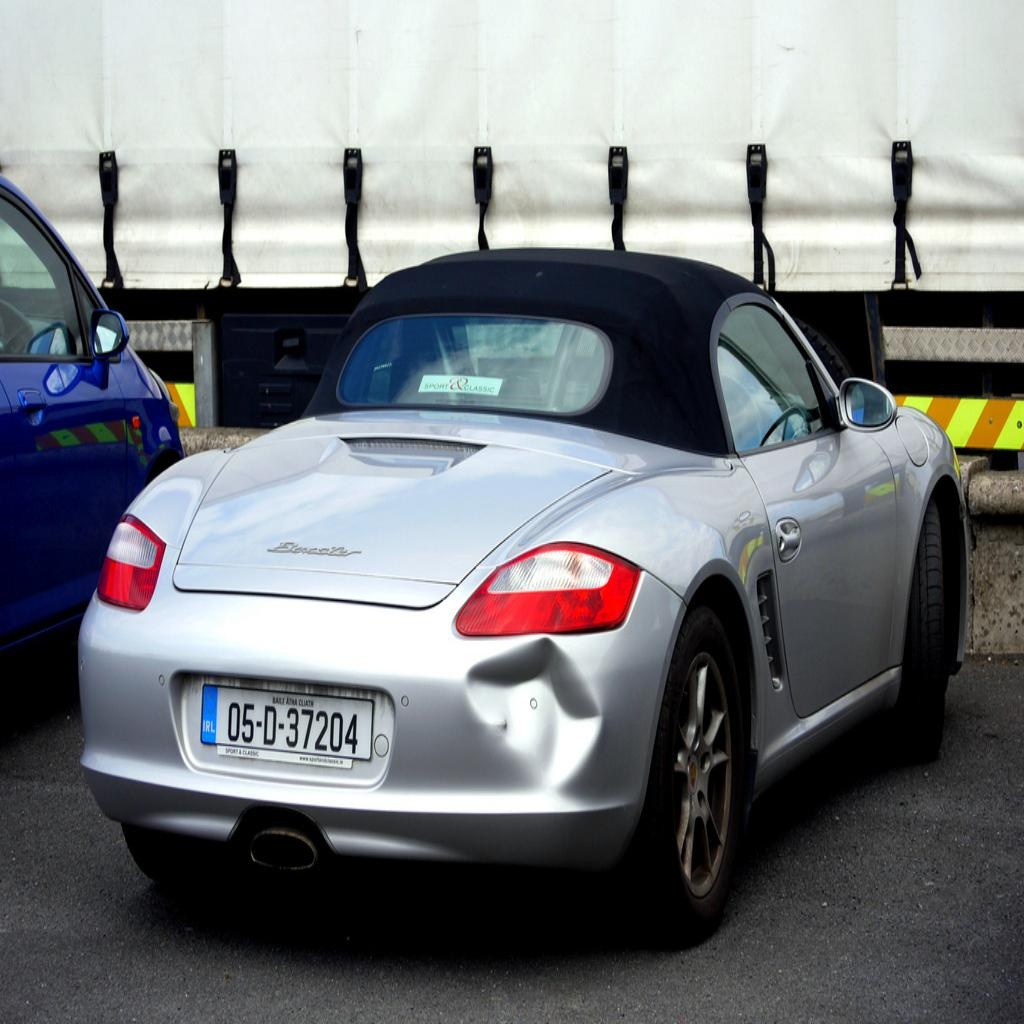Dent: (463, 634, 609, 798)
